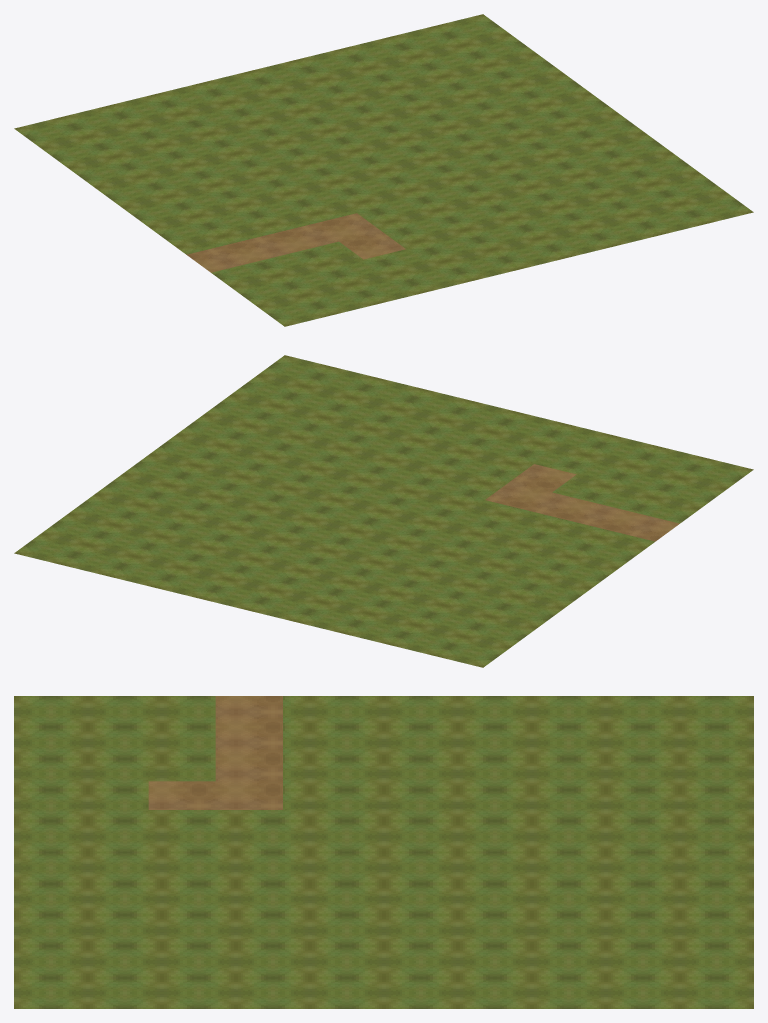
File: TestPlayerFarm.glb
The picture shows the model from 3 angles, top to bottom: view 1: azimuth 30°, elevation 25°; view 2: azimuth 150°, elevation 25°; view 3: azimuth 270°, elevation 25°; orthographic projection. The views are drawn at different scales.
Visible parts, largest first — view 1: Plane.001; view 2: Plane.001; view 3: Plane.001.
Part boxes in pixels (x1=…): Plane.001: x1=14, y1=14, x2=753, y2=326; Plane.001: x1=14, y1=355, x2=753, y2=667; Plane.001: x1=14, y1=696, x2=753, y2=1008.
Size of the model in its own units: 10.41 by 0 by 10.41.
Materials: 2 (2 with a texture image).
